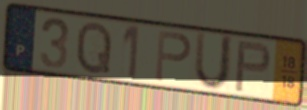1: (119, 23, 141, 82)
3: (39, 16, 71, 71)
P: (232, 39, 273, 94), (153, 28, 193, 84)
Q: (74, 20, 114, 77)
U: (192, 30, 236, 93)
